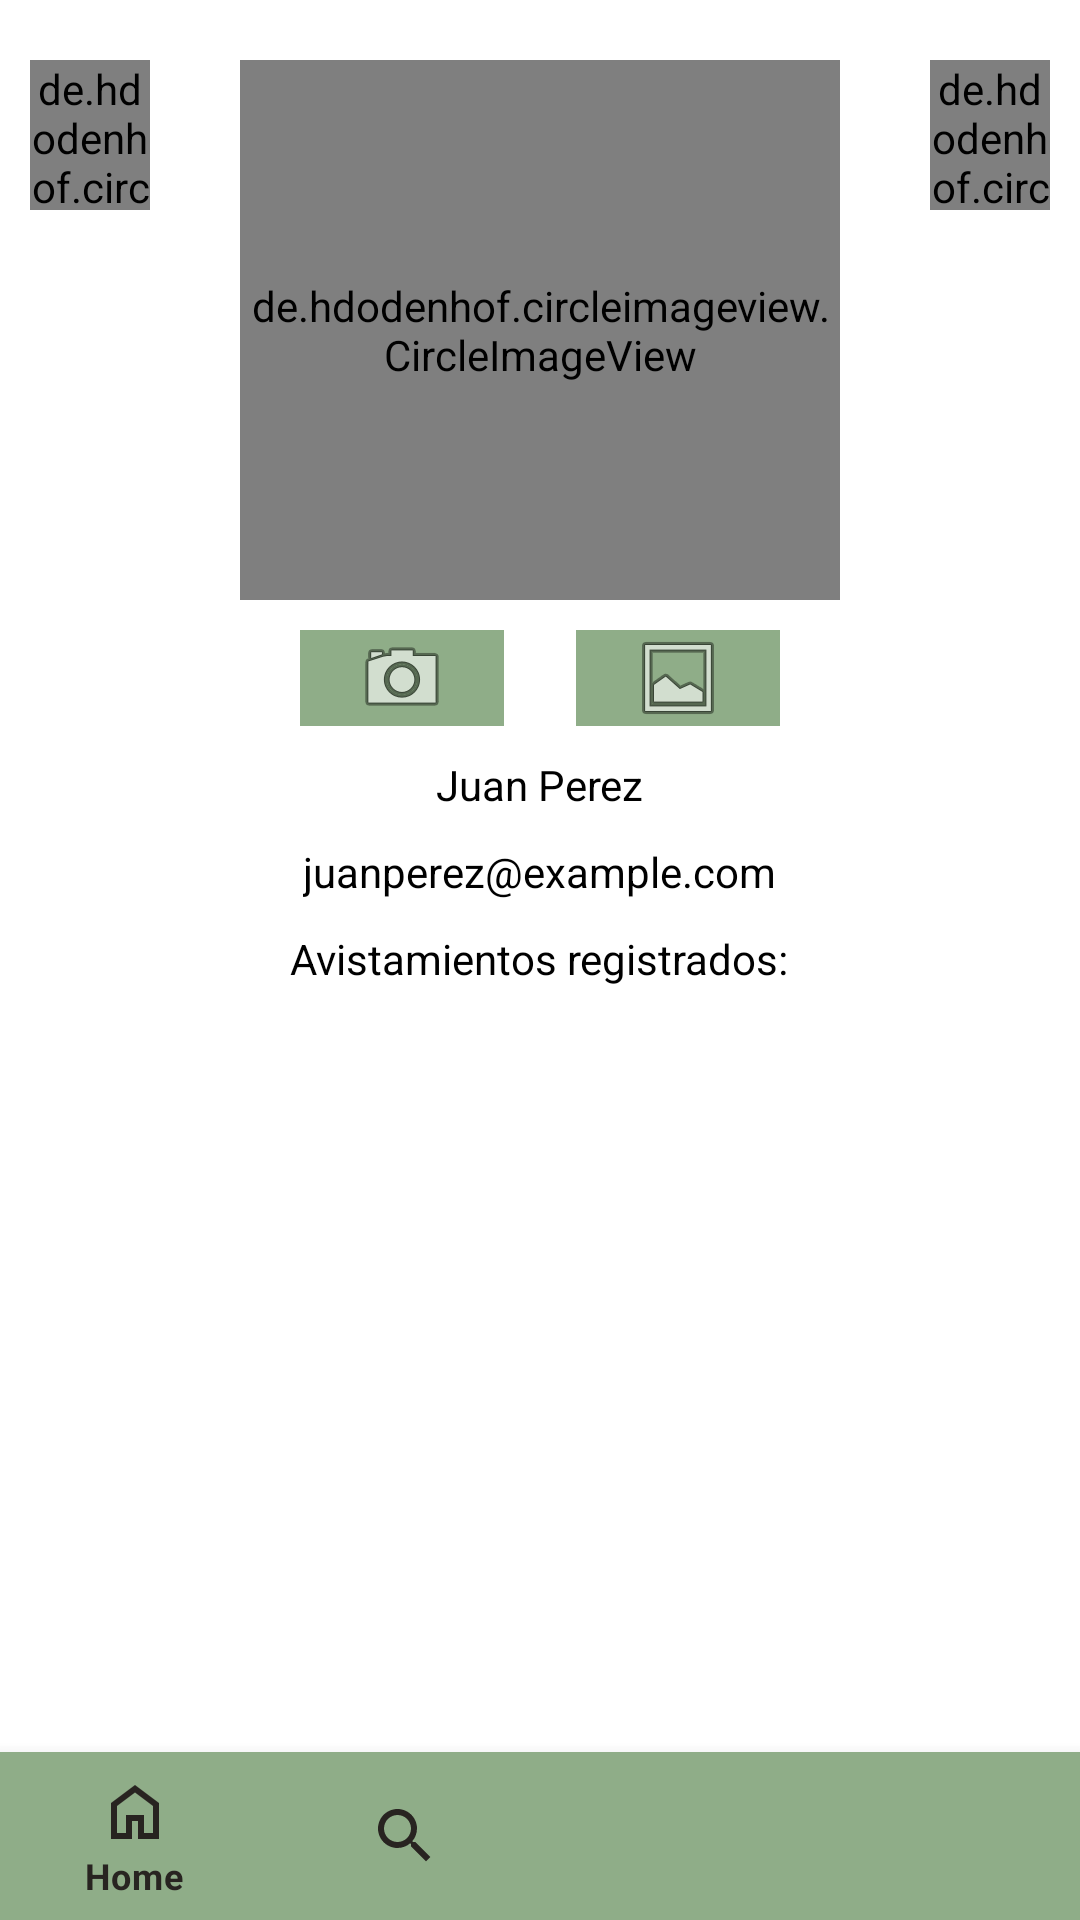

Where icons sit on this 1080w x 1920h app screen, as (x1, y1, x2, y2):
camera: (300, 630, 504, 726)
gallery: (576, 630, 780, 726)
